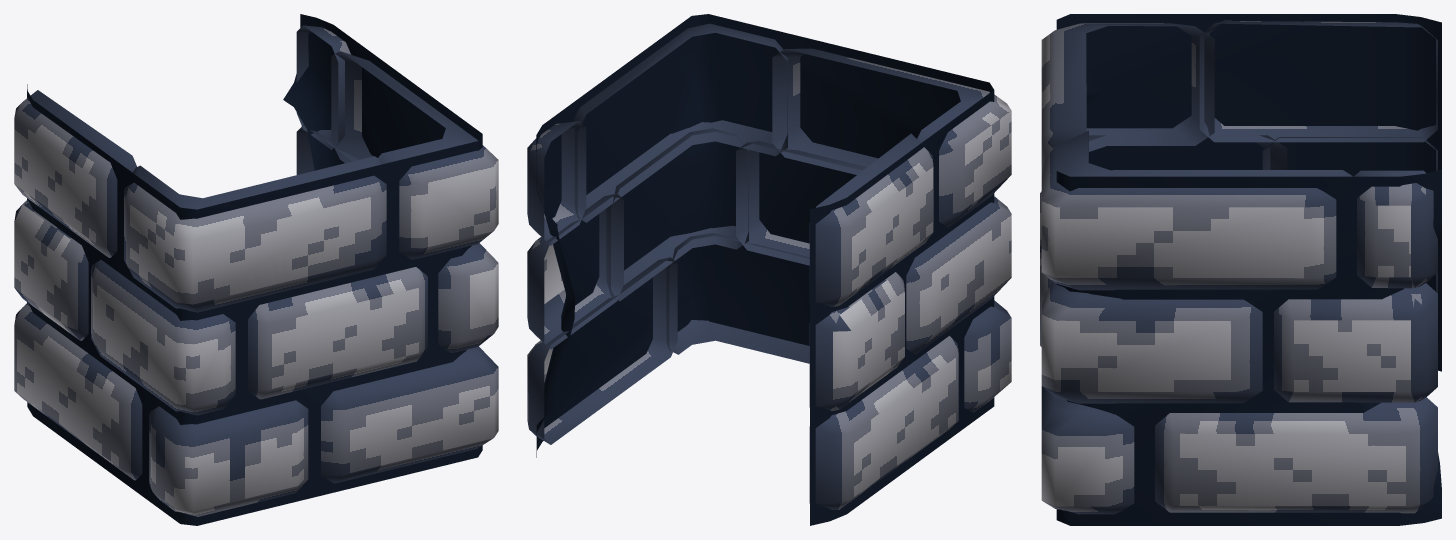
Rendered from tower_part_wall_01.fbx.
The picture shows the model from 3 angles, left to right: view 1: azimuth 30°, elevation 25°; view 2: azimuth 150°, elevation 25°; view 3: azimuth 270°, elevation 25°; orthographic projection. The views are drawn at different scales.
Parts seen in each view (by area): view 1: tower_wall; view 2: tower_wall; view 3: tower_wall.
Boxes of the visible parts, bbox=[...] form: tower_wall: bbox=[14, 14, 498, 525]; tower_wall: bbox=[527, 14, 1011, 525]; tower_wall: bbox=[1040, 14, 1441, 525].
Size of the model in its own units: 214 by 209 by 200.
1 material, 1 textured.
